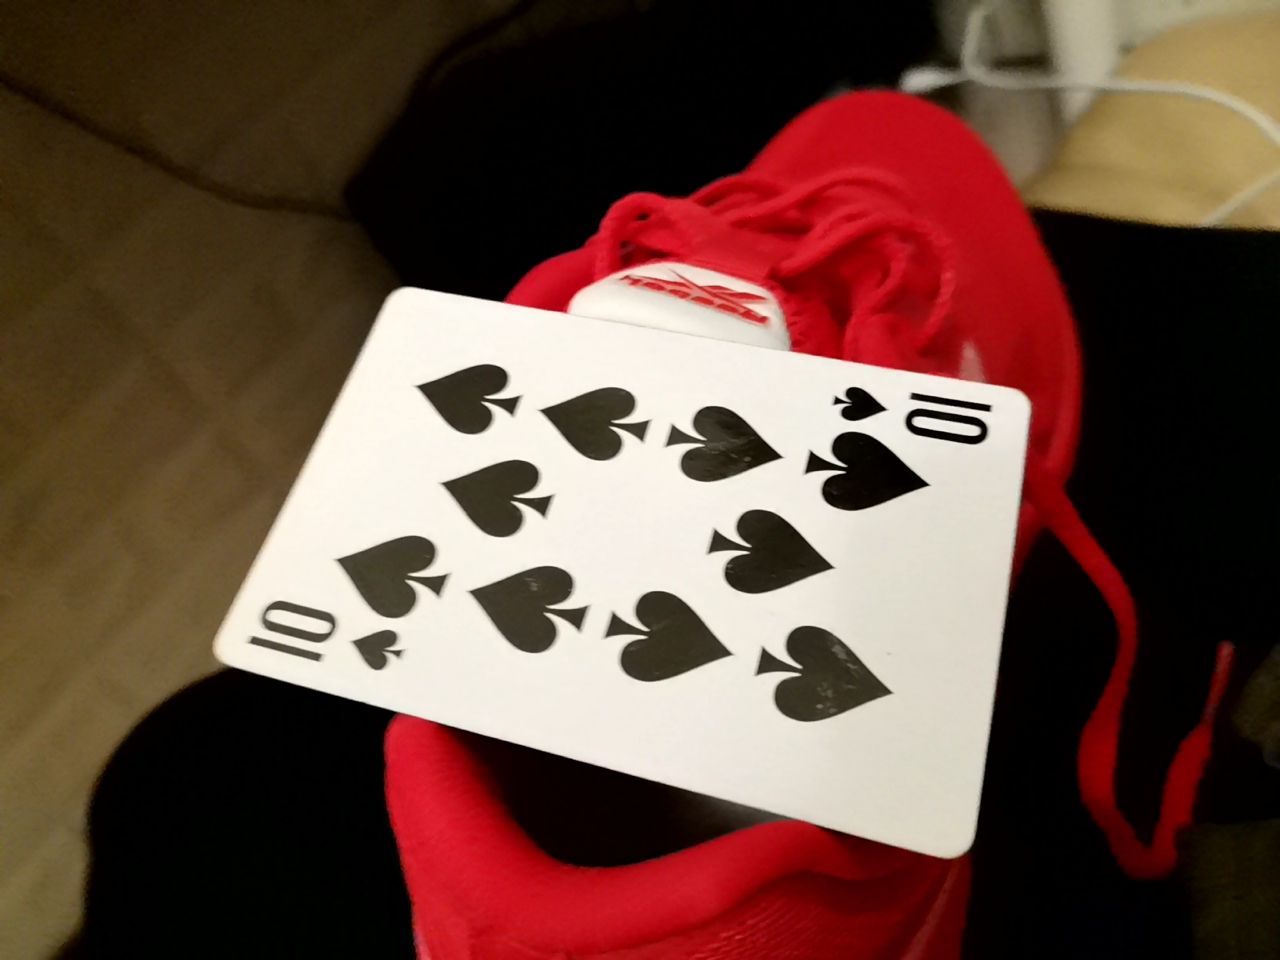ht 10: (218, 272, 1044, 871)
